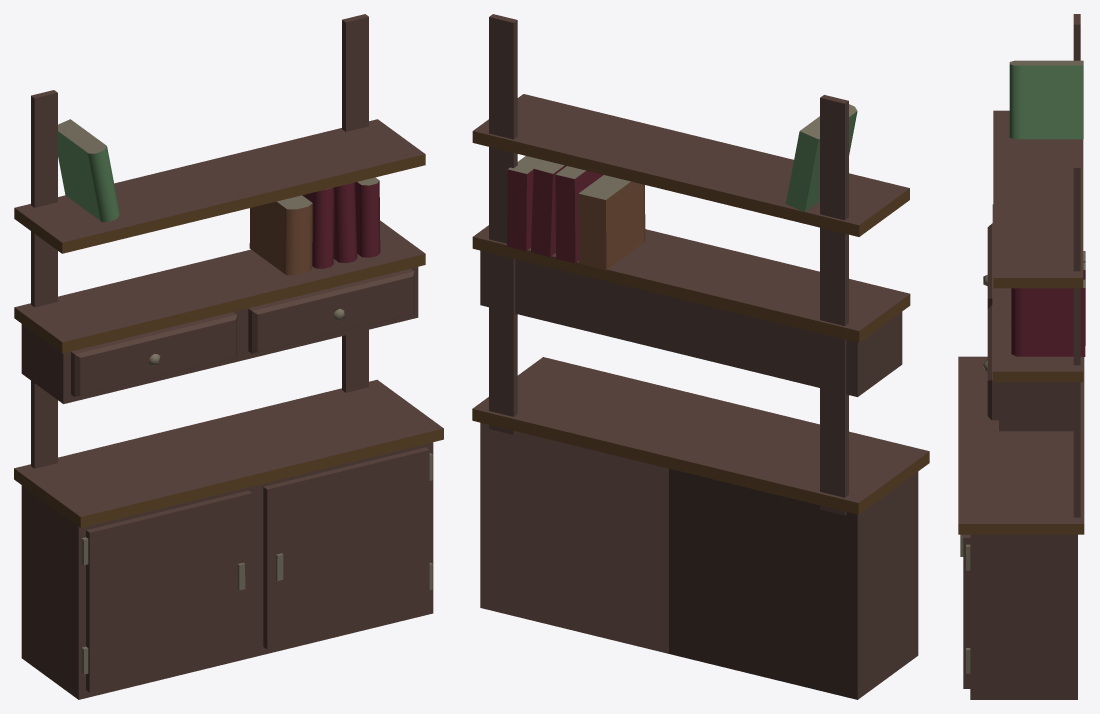
The model's file is shelf2.gltf.
3 renders of one model, left to right at view 1: azimuth 30°, elevation 25°; view 2: azimuth 150°, elevation 25°; view 3: azimuth 270°, elevation 25°, orthographic. The views are drawn at different scales.
Parts seen in each view (by area): view 1: Cube, Cube.081, Cube.087, Cube.089, Cube.086, Cube.085, Cube.002, Cube.088, Cube.084, Cube.082, Cube.083; view 2: Cube, Cube.087, Cube.081, Cube.089, Cube.086, Cube.085, Cube.088, Cube.002, Cube.082, Cube.084, Cube.083; view 3: Cube, Cube.087, Cube.002, Cube.081, Cube.084, Cube.089, Cube.085, Cube.086.
Boxes of the visible parts, box(x1,y1,x2,y2) form: Cube: box(14, 379, 443, 699); Cube.081: box(21, 267, 418, 403); Cube.087: box(14, 119, 425, 253); Cube.089: box(14, 220, 425, 353); Cube.086: box(31, 90, 57, 468); Cube.085: box(342, 14, 368, 392); Cube.002: box(58, 119, 119, 222); Cube.088: box(249, 195, 312, 275); Cube.084: box(355, 177, 380, 257); Cube.082: box(302, 187, 334, 268); Cube.083: box(333, 182, 357, 263); Cube: box(472, 357, 929, 699); Cube.087: box(472, 94, 909, 236); Cube.081: box(480, 250, 902, 396); Cube.089: box(472, 225, 910, 342); Cube.086: box(820, 95, 848, 515); Cube.085: box(489, 14, 517, 434); Cube.088: box(578, 175, 645, 270); Cube.002: box(786, 104, 857, 212); Cube.082: box(555, 166, 603, 263); Cube.084: box(507, 156, 544, 251); Cube.083: box(531, 160, 566, 257); Cube: box(958, 356, 1084, 699); Cube.087: box(993, 110, 1083, 288); Cube.002: box(1009, 60, 1083, 139); Cube.081: box(983, 223, 1077, 431); Cube.084: box(1011, 279, 1085, 356); Cube.089: box(992, 204, 1083, 382); Cube.085: box(1073, 157, 1080, 517); Cube.086: box(1073, 14, 1080, 60).
Size of the model in its own units: 2.05 by 3.01 by 0.6578.
